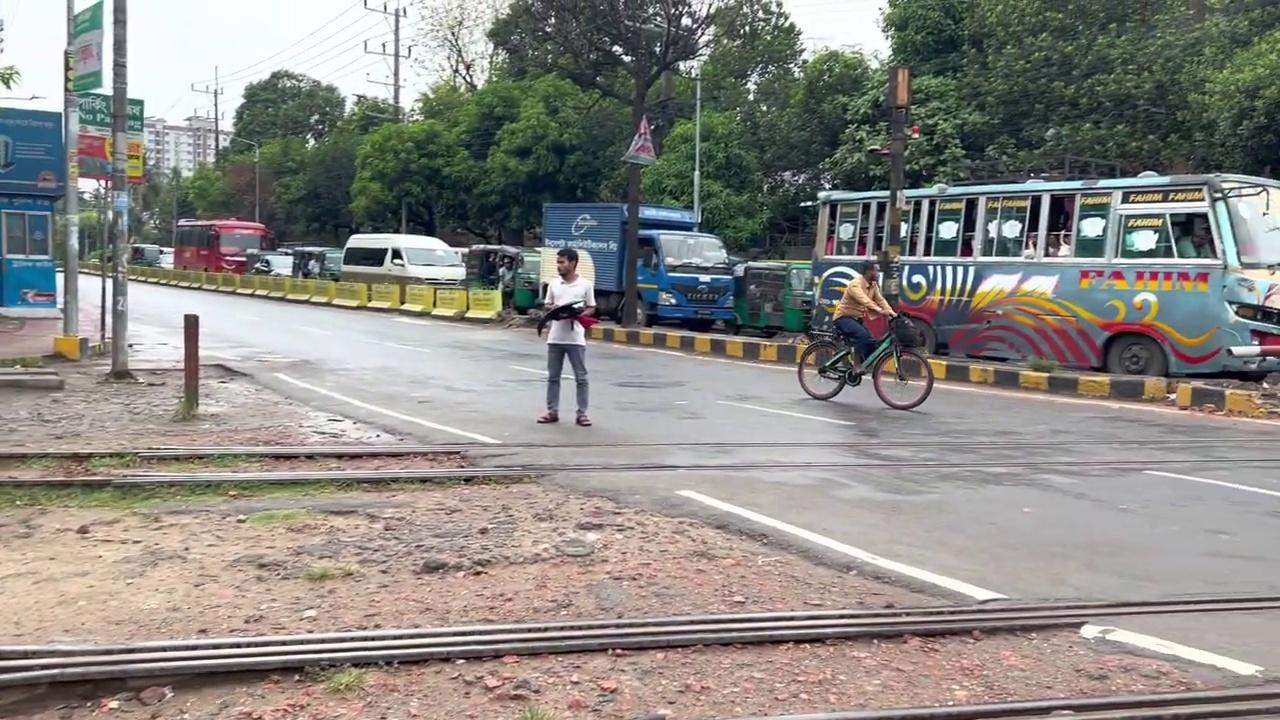Fence: (535, 247, 598, 426), (831, 260, 896, 378)
Garbage: (52, 1, 89, 360), (107, 0, 132, 378), (879, 65, 910, 309), (62, 0, 79, 338), (691, 65, 703, 230)
Motorcycle: (5, 499, 1280, 716)
Rickshaw: (538, 201, 738, 330), (172, 216, 277, 275)
